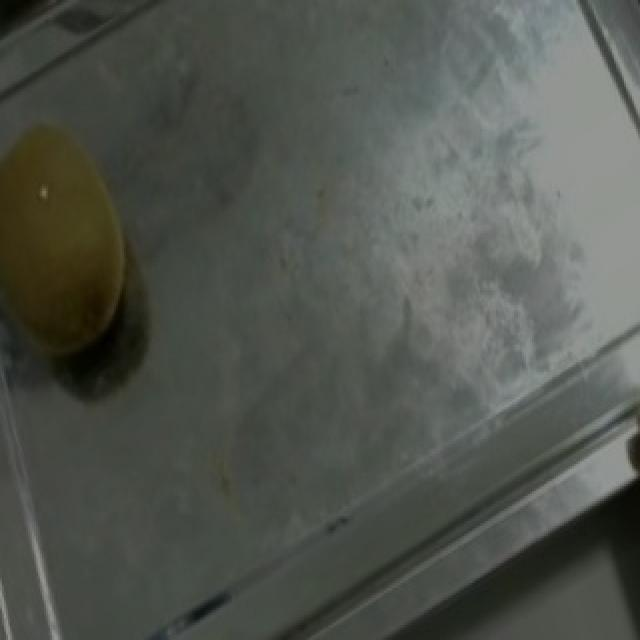Fruit: (0, 92, 172, 384)
